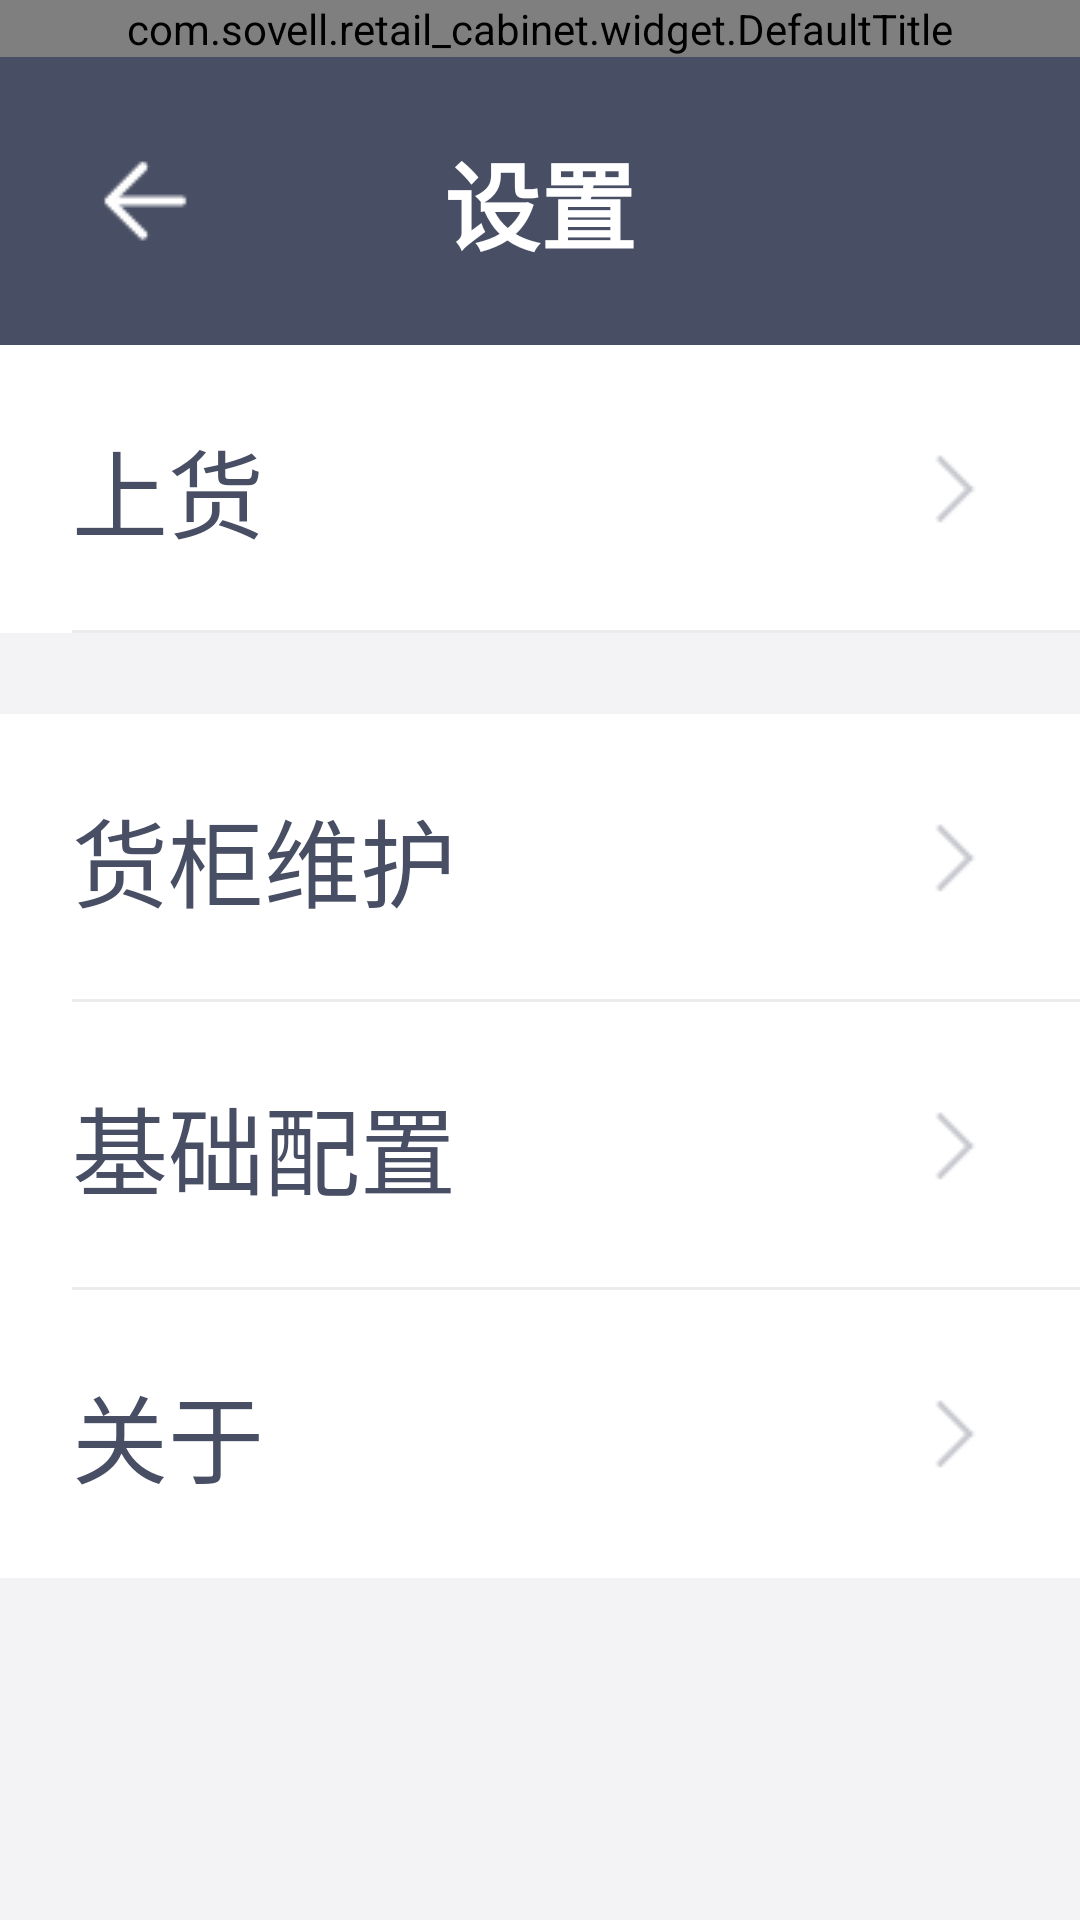

Named icons in this screenshot (1080px×1920px) and their centers, (x=x, y=y):
back: (x=145, y=201)
right: (x=955, y=489), (x=955, y=858), (x=955, y=1146), (x=955, y=1434)
